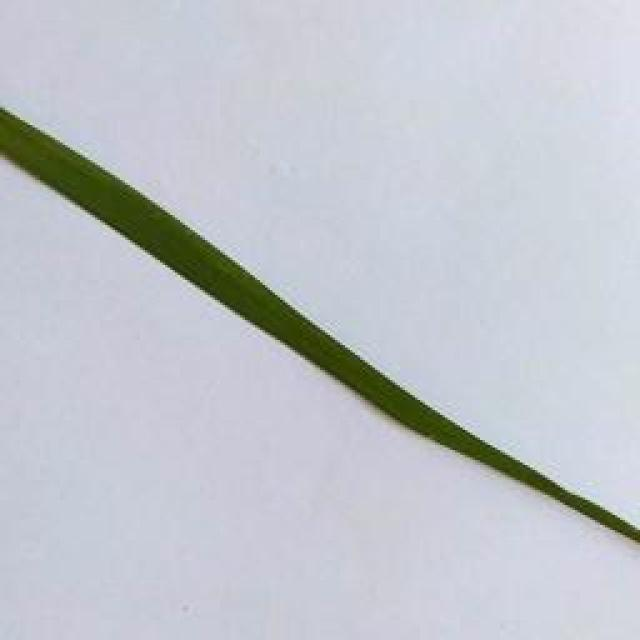Healthy-Plant: (312, 362, 640, 541), (127, 239, 365, 362), (0, 108, 204, 240)
